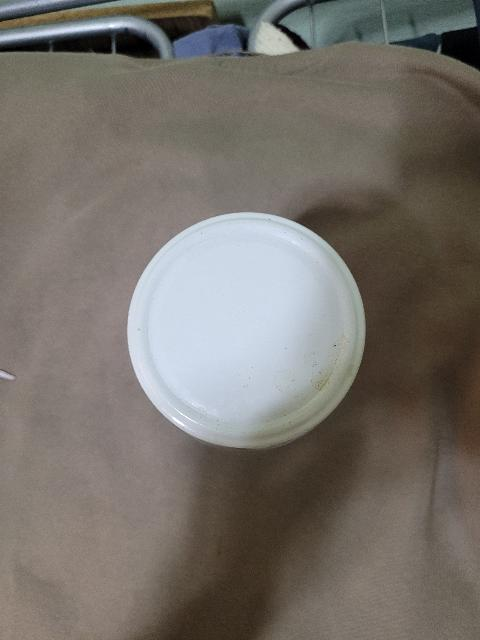Metal: (124, 205, 370, 456)
